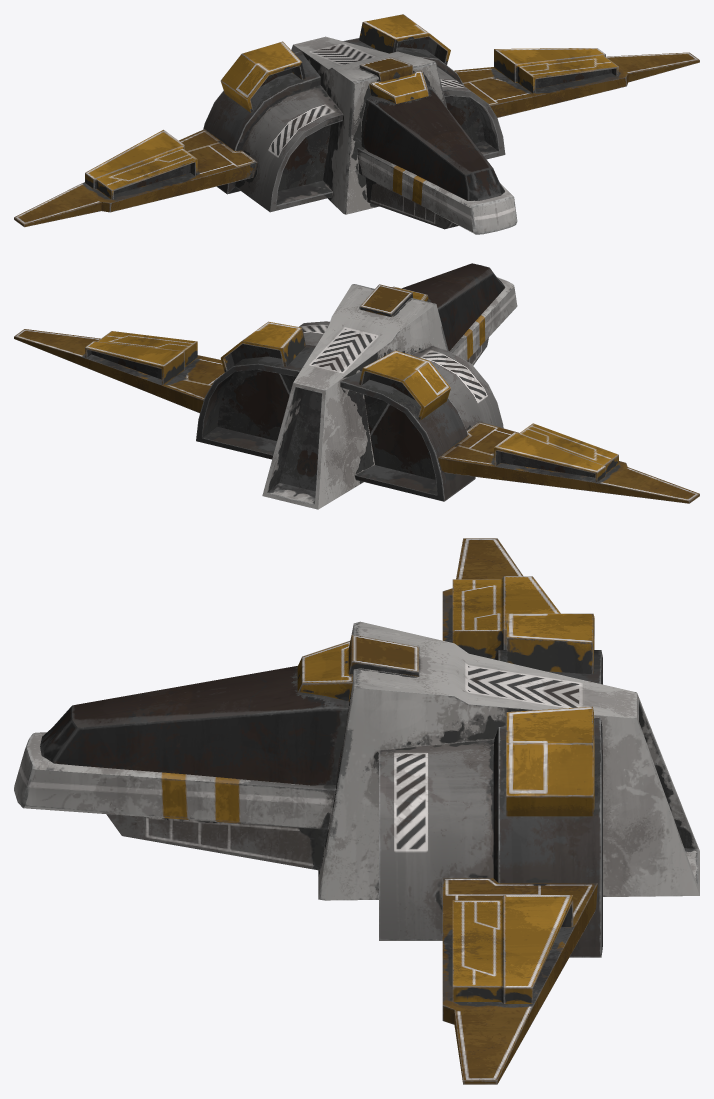
File: bob.glb
The picture shows the model from 3 angles, top to bottom: view 1: azimuth 30°, elevation 25°; view 2: azimuth 150°, elevation 25°; view 3: azimuth 270°, elevation 25°; orthographic projection. The views are drawn at different scales.
Parts seen in each view (by area): view 1: Bob_Cube.005; view 2: Bob_Cube.005; view 3: Bob_Cube.005.
Part boxes in pixels (x1,y1,x2,y2): Bob_Cube.005: (14, 14, 699, 234); Bob_Cube.005: (14, 263, 699, 509); Bob_Cube.005: (14, 538, 699, 1084).
Size of the model in its own units: 10.5 by 2.04 by 5.61.
Materials: 1 (1 with a texture image).
